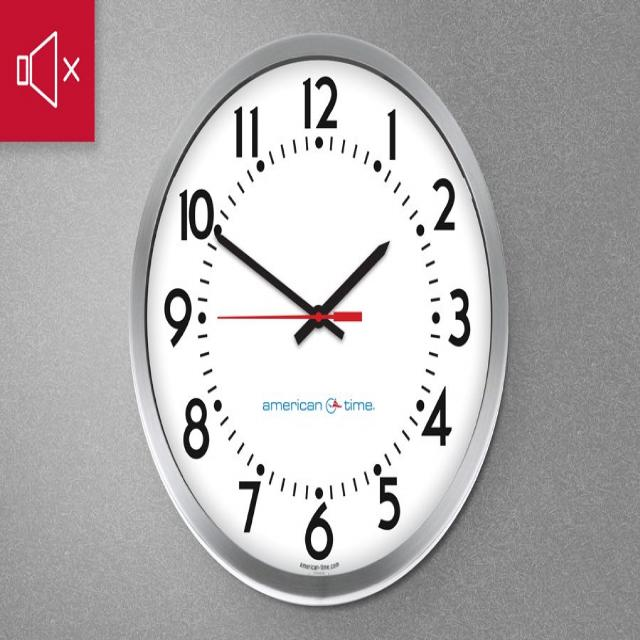clock: (103, 0, 564, 640)
